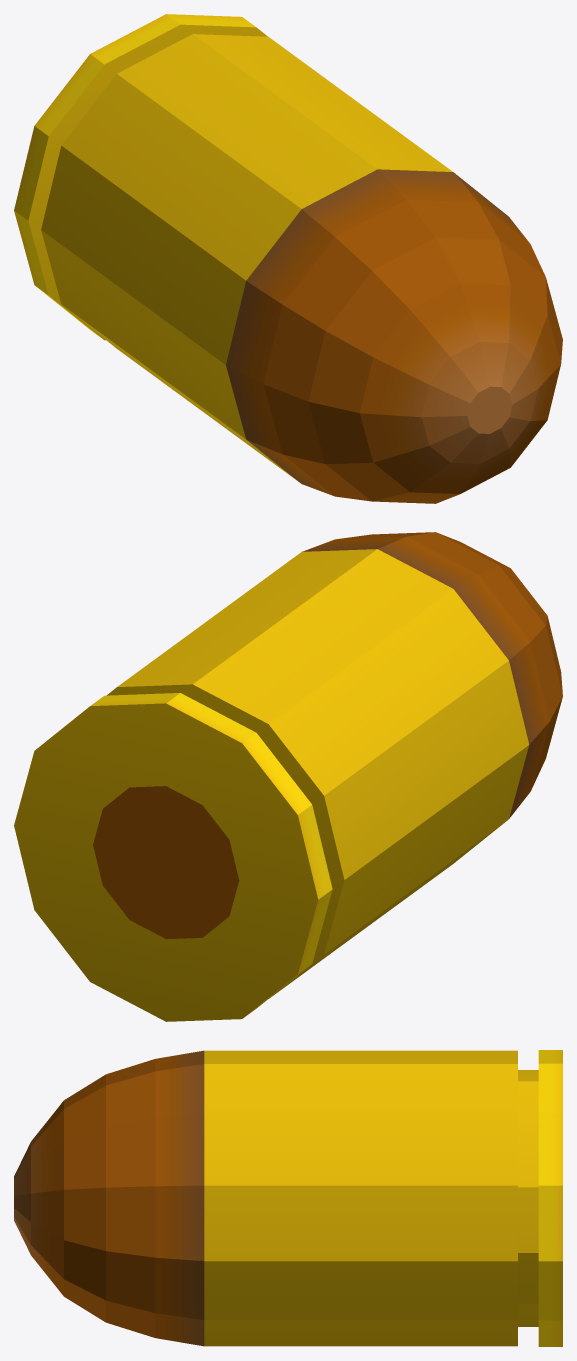
The model's file is SM_Wpn_Bullet_01.fbx.
3 renders of one model, top to bottom at view 1: azimuth 30°, elevation 25°; view 2: azimuth 150°, elevation 25°; view 3: azimuth 270°, elevation 25°, orthographic. The views are drawn at different scales.
Parts seen in each view (by area): view 1: SM_Wpn_Bullet_01; view 2: SM_Wpn_Bullet_01; view 3: SM_Wpn_Bullet_01.
Part boxes in pixels (x1=…): SM_Wpn_Bullet_01: x1=14, y1=14, x2=562, y2=503; SM_Wpn_Bullet_01: x1=14, y1=532, x2=562, y2=1021; SM_Wpn_Bullet_01: x1=14, y1=1050, x2=562, y2=1346.
Bounding box in the file's own units: 0.0928 × 0.0928 × 0.171.
